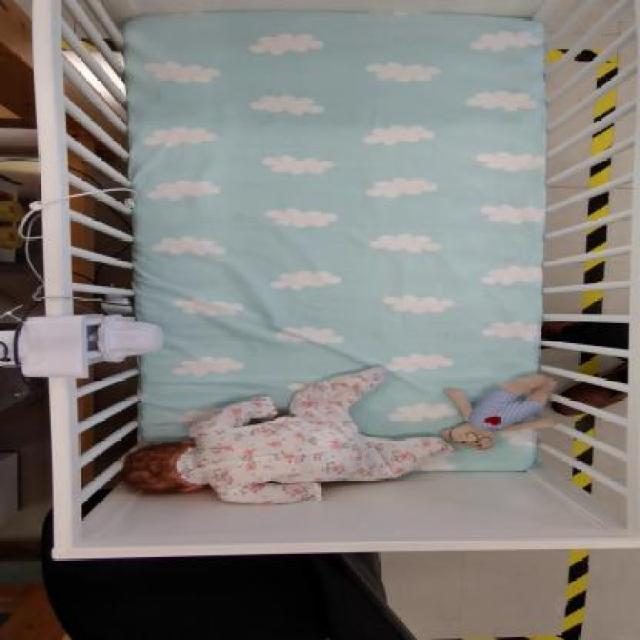baby: (118, 362, 456, 508)
